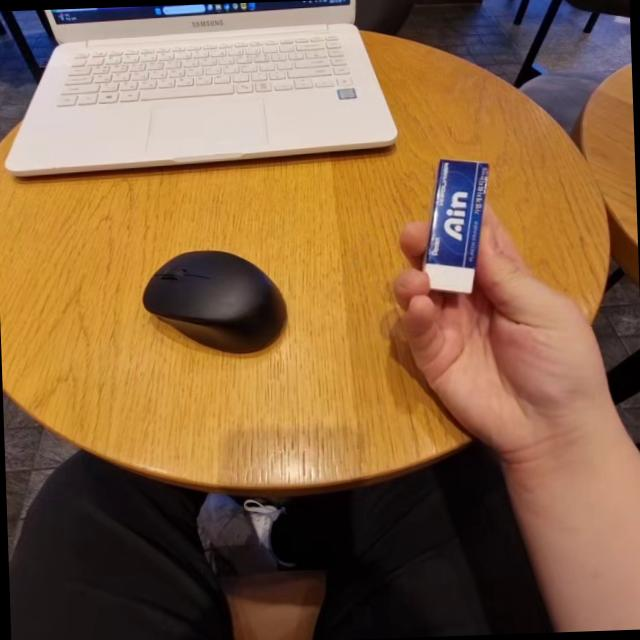eraser: (418, 151, 516, 300)
grab_eraser: (378, 157, 640, 490)
mouse: (137, 243, 286, 352)
